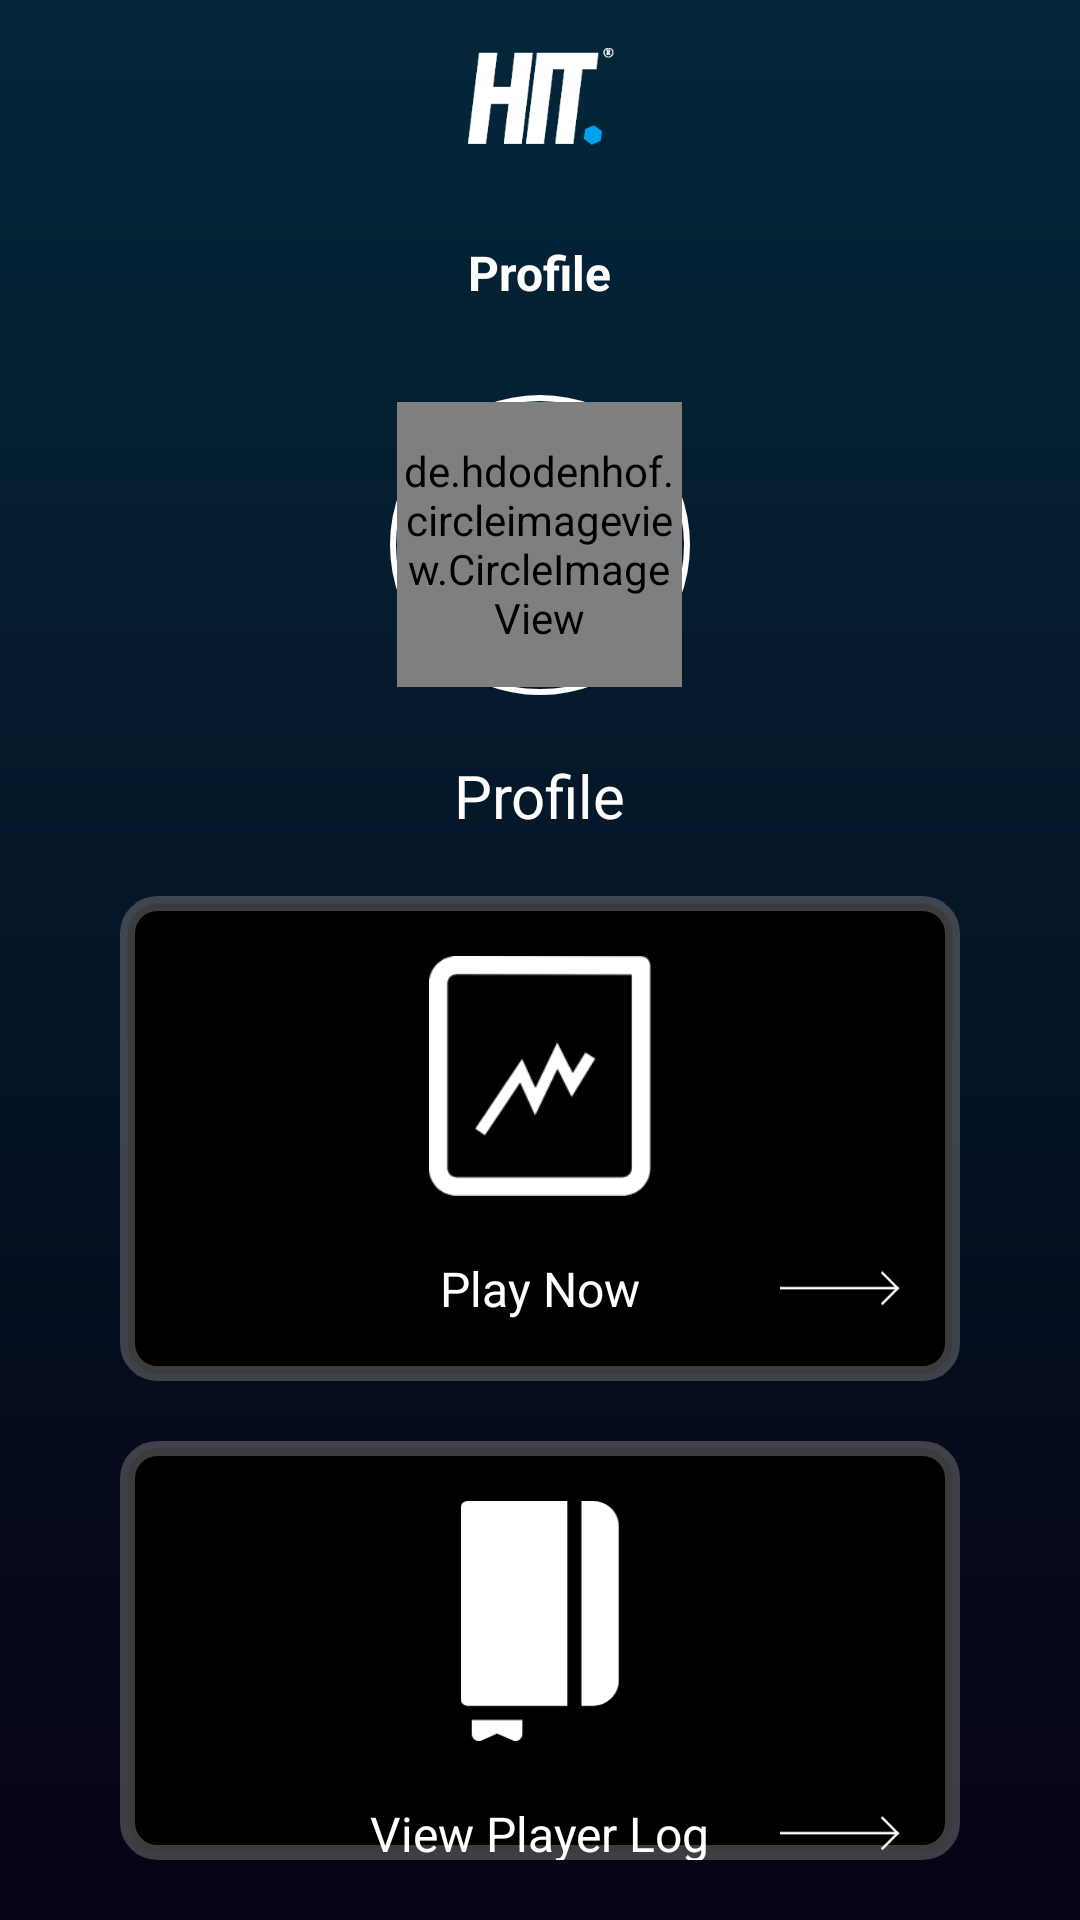

Icon bounding boxes for this 1080*1920 phone screenshot, format region(x1, y1, x2, y2):
arrow: region(780, 1271, 900, 1306), region(780, 1816, 900, 1860)
logbook: region(461, 1501, 619, 1741)
play graph: region(429, 956, 651, 1196)
